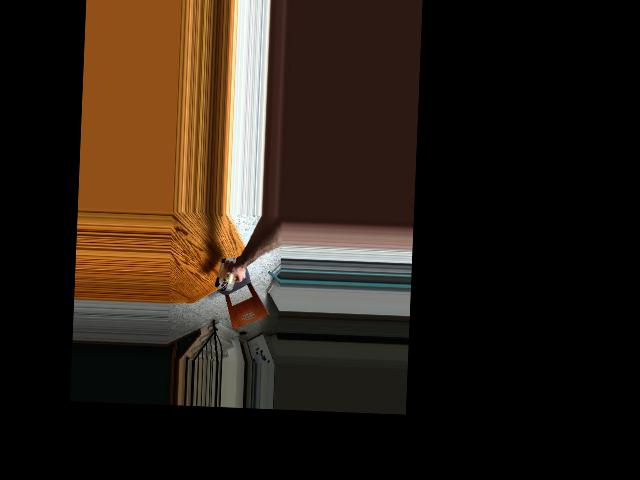cheese: (214, 256, 238, 290)
